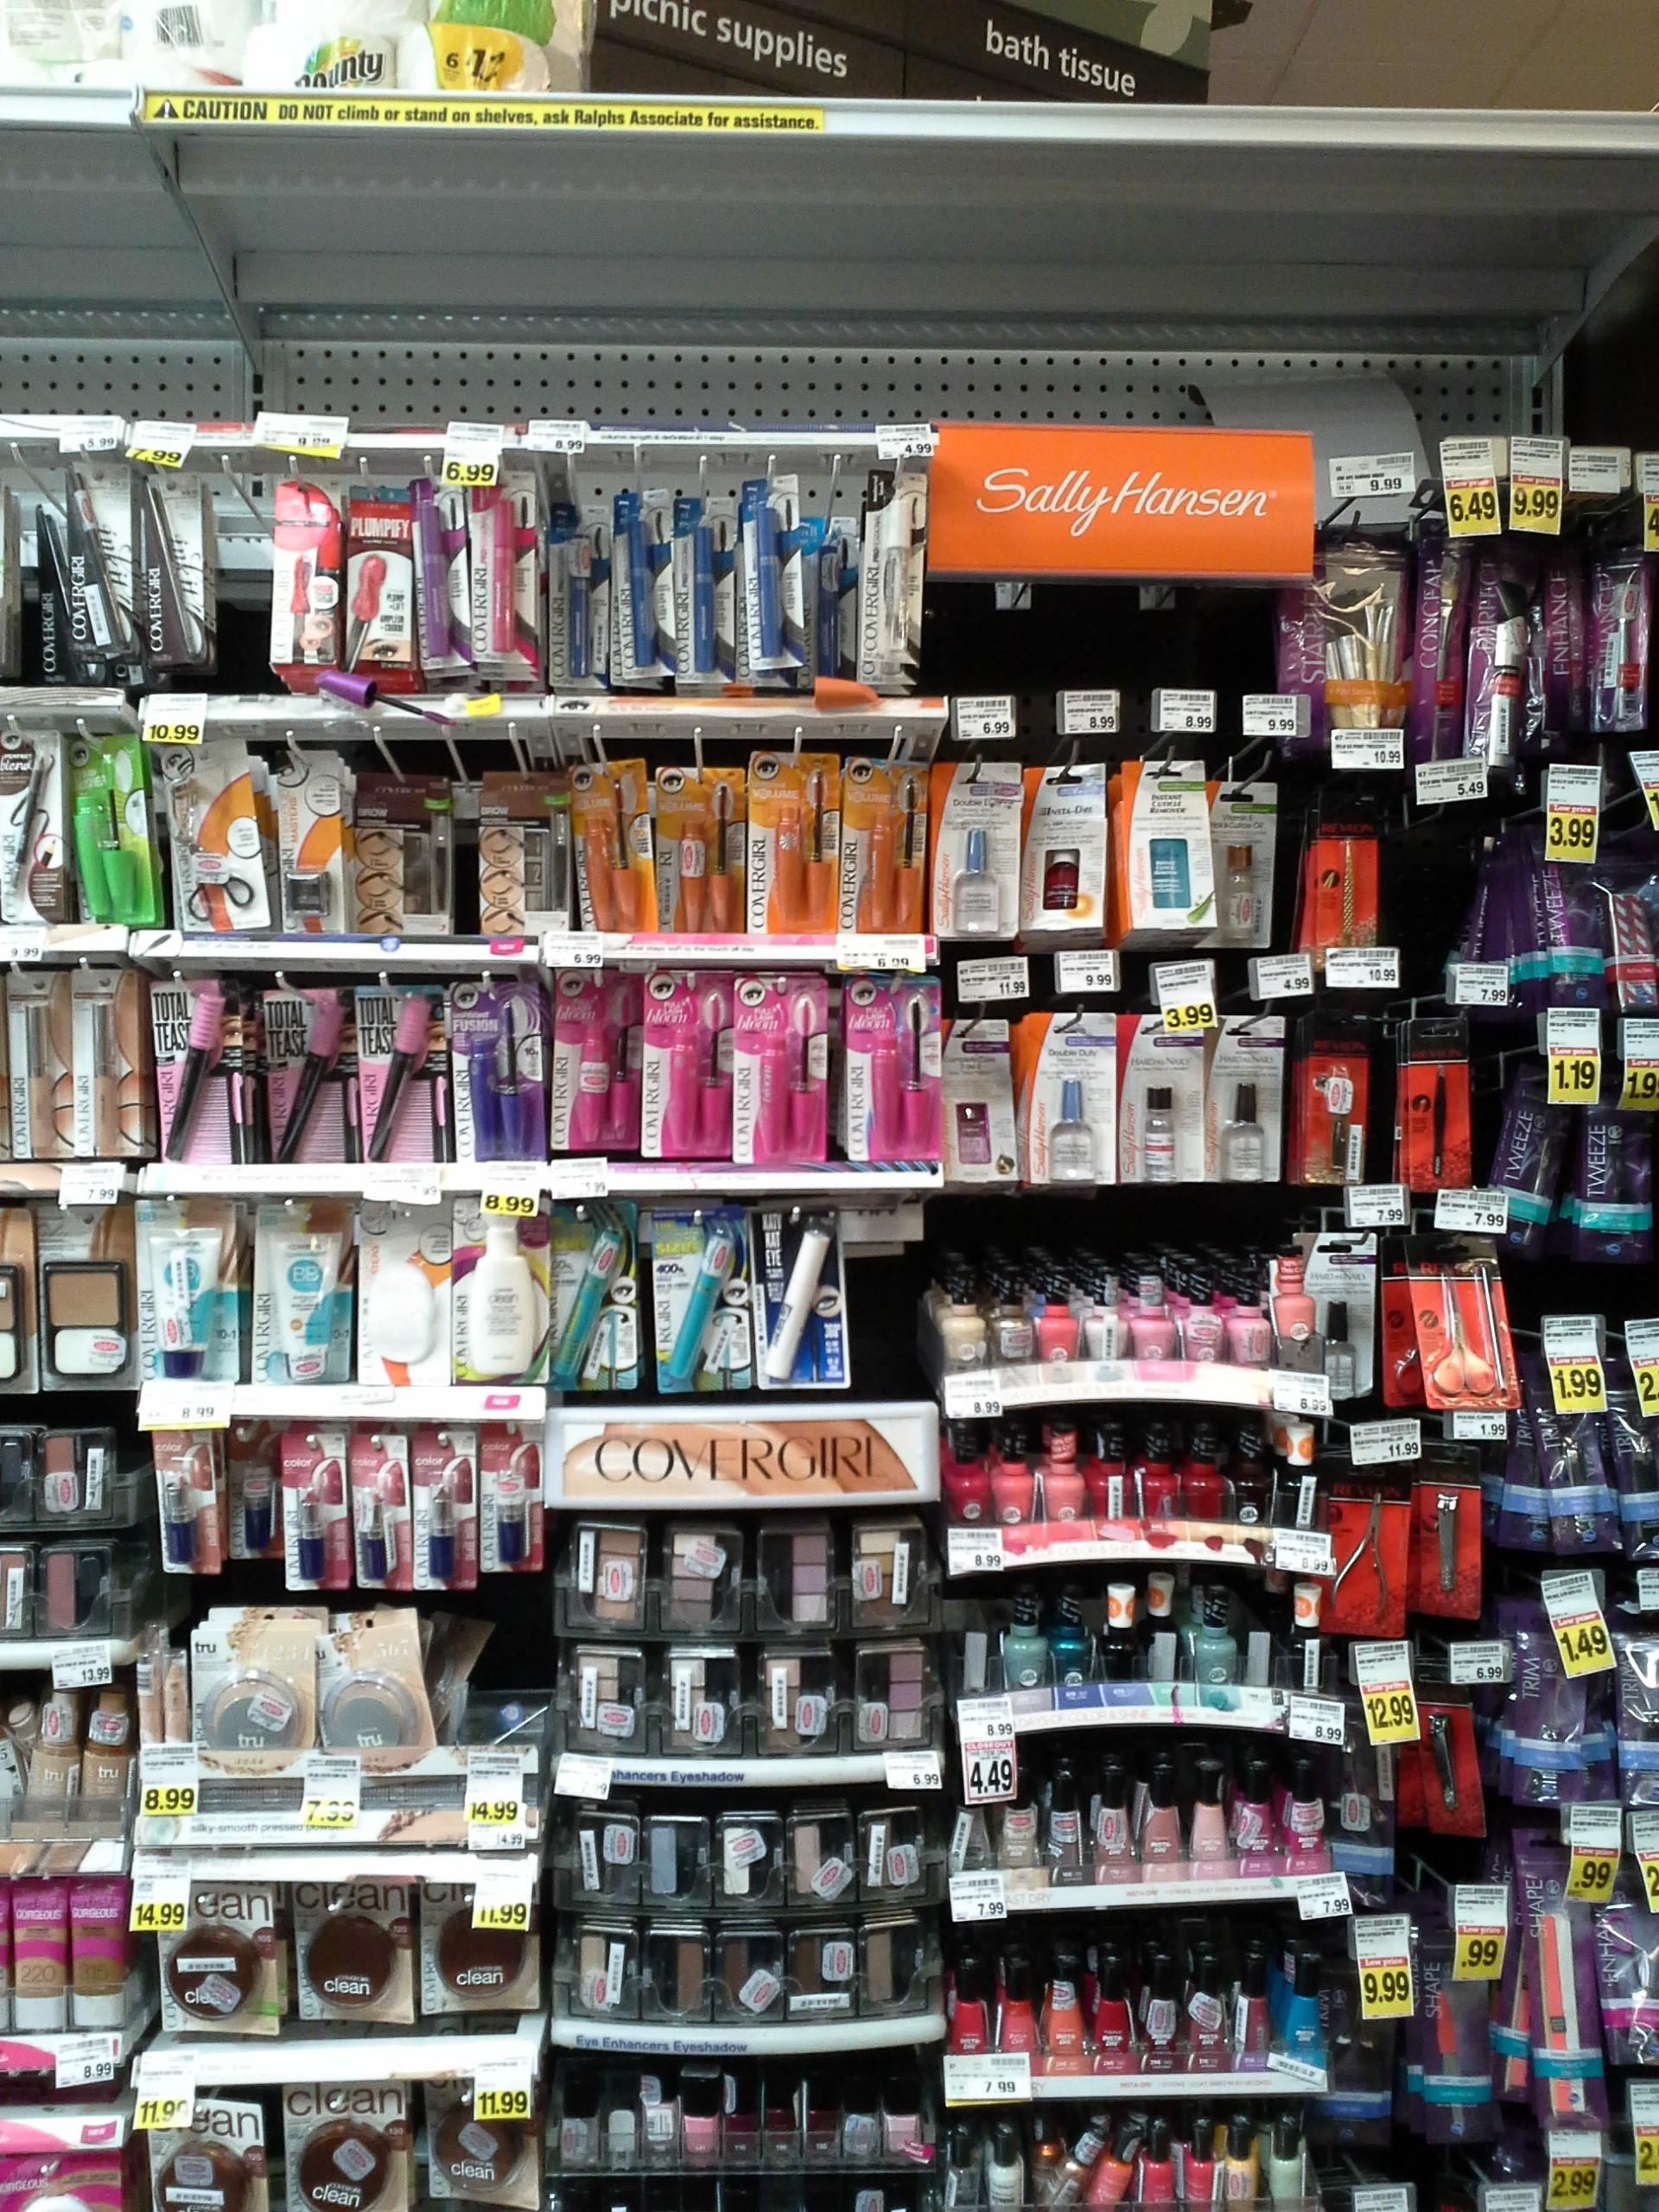misalignment: (423, 1609, 498, 1723), (472, 1679, 552, 1766), (1098, 2114, 1143, 2205), (1053, 2114, 1093, 2207)
